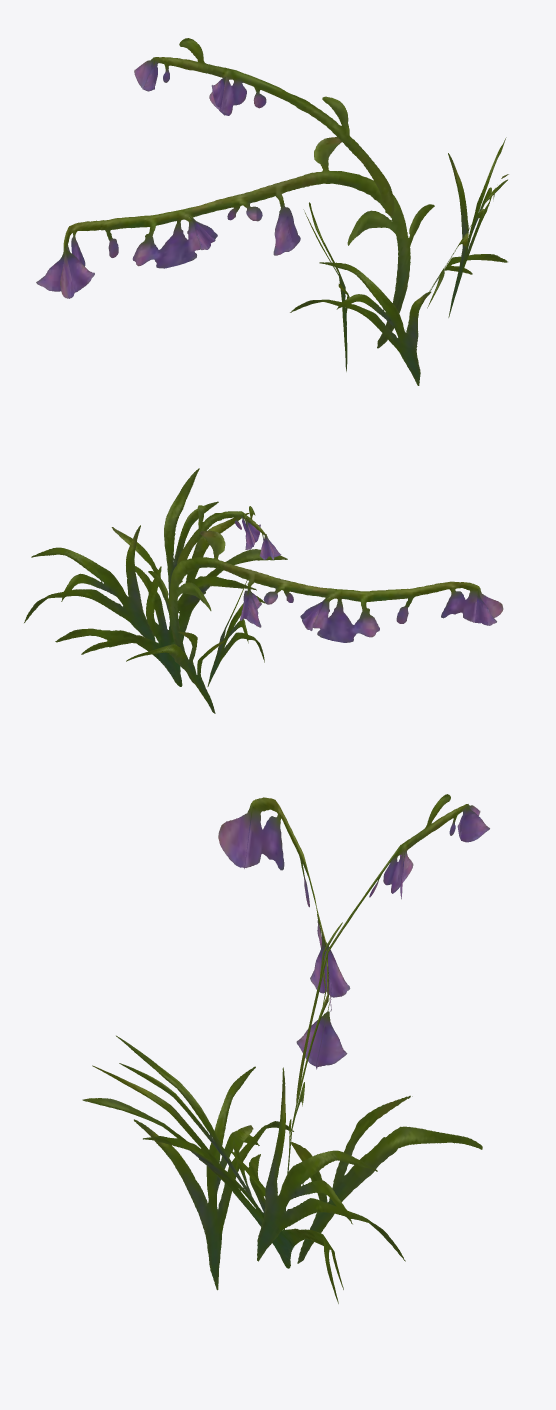
The picture shows the model from 3 angles, top to bottom: view 1: azimuth 30°, elevation 25°; view 2: azimuth 150°, elevation 25°; view 3: azimuth 270°, elevation 25°; orthographic projection. The views are drawn at different scales.
Bounding box in the file's own units: 3.32 × 2.25 × 2.15.
1 material, 1 textured.
